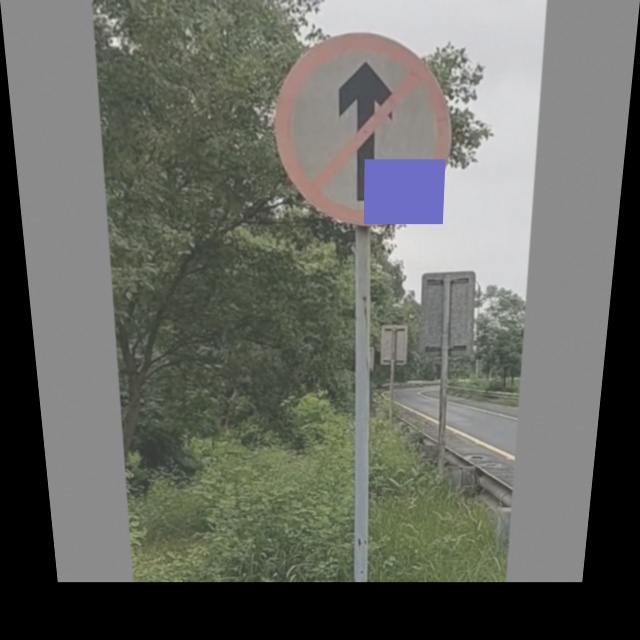No_Entry: (274, 35, 453, 225)
